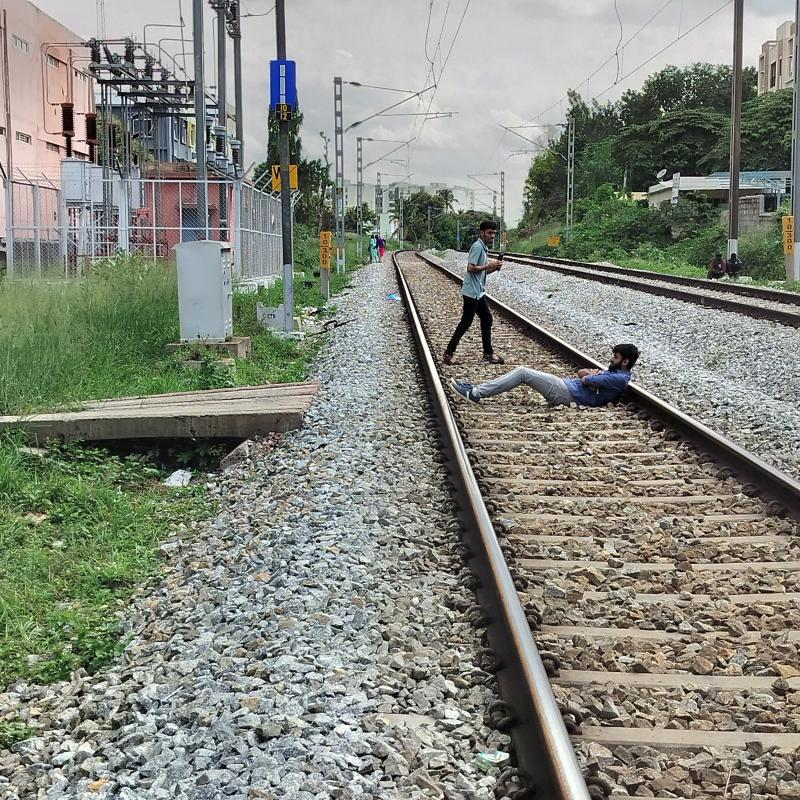sleeping: (438, 338, 652, 418)
